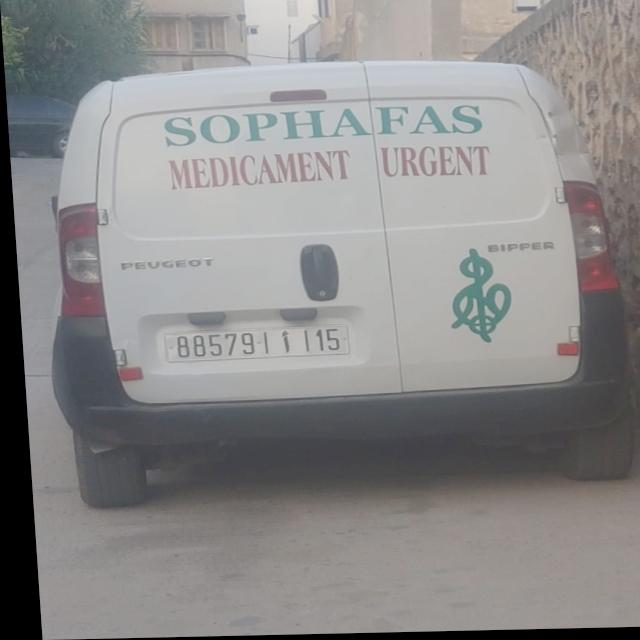License-Plate: (159, 327, 343, 362)
